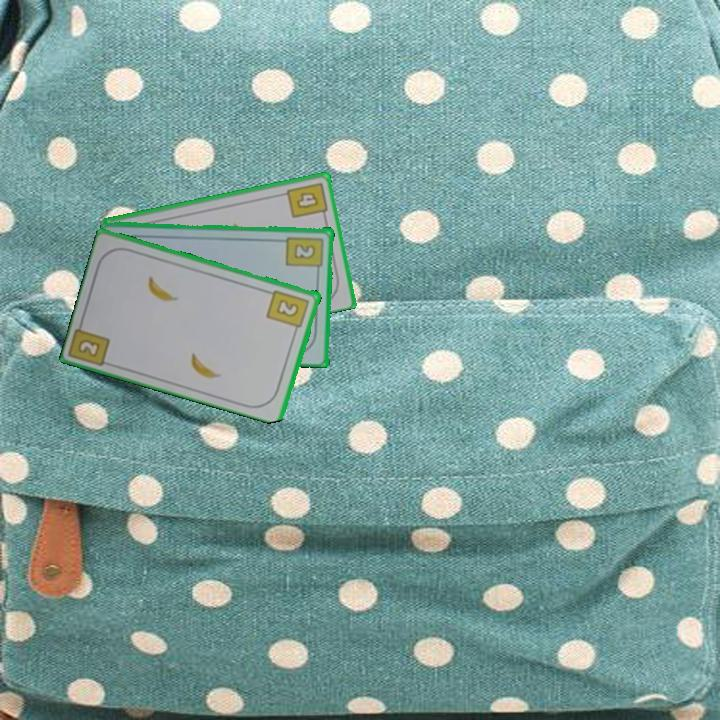2b: (264, 286, 312, 336), (284, 233, 326, 276), (74, 335, 103, 360)
4b: (283, 179, 330, 221)
